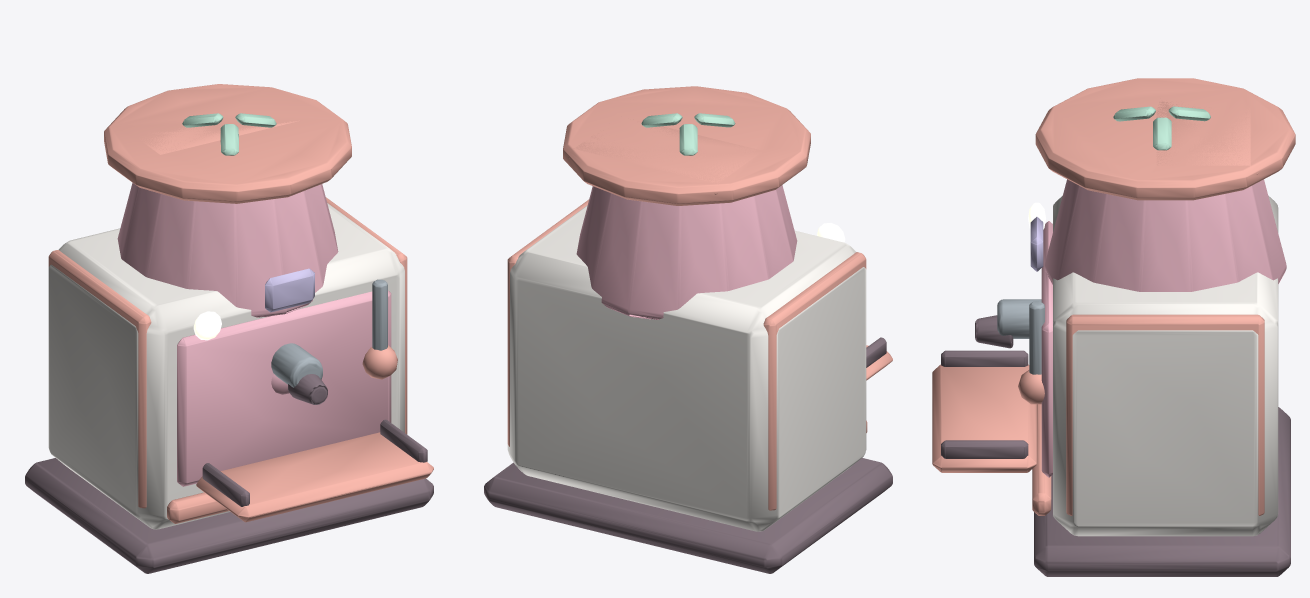
Rendered from machine_strawberry.glb.
3 views of the same model, side by side, from view 1: azimuth 30°, elevation 25°; view 2: azimuth 150°, elevation 25°; view 3: azimuth 270°, elevation 25° (orthographic). The views are drawn at different scales.
Parts seen in each view (by area): view 1: Machine_Strawberry_Body, Machine_Strawberry_FlavorPanel, Machine_Strawberry_HopperRim, Machine_Strawberry_Hopper, Machine_Strawberry_Base, Machine_Strawberry_RemovableOutputTray, Machine_Strawberry_L2_Rail_Left, Machine_Strawberry_L3_Badge, Machine_Strawberry_Hatch, Machine_Strawberry_NozzleNeck, Machine_Strawberry, Machine_Strawberry_LowerTrim (+7 smaller); view 2: Machine_Strawberry_Body, Machine_Strawberry_HopperRim, Machine_Strawberry_Hopper, Machine_Strawberry_Base, Machine_Strawberry_L2_Rail_Left, Machine_Strawberry_Hatch, Machine_Strawberry, Machine_Strawberry_L2_Rail_Right; view 3: Machine_Strawberry_Body, Machine_Strawberry_HopperRim, Machine_Strawberry_Hopper, Machine_Strawberry_Base, Machine_Strawberry_RemovableOutputTray, Machine_Strawberry_L2_Rail_Right, Machine_Strawberry_Hatch, Machine_Strawberry_FlavorPanel, Machine_Strawberry_TrayRail_R, Machine_Strawberry, Machine_Strawberry_TrayRail_L, Machine_Strawberry_NozzleNeck (+5 smaller).
Part boxes in pixels (bbox=[...]): Machine_Strawberry_Body: bbox=[48, 203, 404, 529]; Machine_Strawberry_FlavorPanel: bbox=[177, 290, 391, 486]; Machine_Strawberry_HopperRim: bbox=[104, 84, 351, 203]; Machine_Strawberry_Hopper: bbox=[117, 182, 338, 317]; Machine_Strawberry_Base: bbox=[25, 458, 433, 573]; Machine_Strawberry_RemovableOutputTray: bbox=[196, 432, 433, 522]; Machine_Strawberry_L2_Rail_Left: bbox=[48, 250, 151, 508]; Machine_Strawberry_L3_Badge: bbox=[265, 268, 314, 312]; Machine_Strawberry_Hatch: bbox=[114, 120, 299, 154]; Machine_Strawberry_NozzleNeck: bbox=[271, 343, 322, 387]; Machine_Strawberry: bbox=[182, 113, 276, 155]; Machine_Strawberry_LowerTrim: bbox=[167, 492, 228, 523]; Machine_Strawberry_Body: bbox=[507, 205, 866, 531]; Machine_Strawberry_HopperRim: bbox=[563, 86, 810, 205]; Machine_Strawberry_Hopper: bbox=[576, 185, 797, 319]; Machine_Strawberry_Base: bbox=[484, 458, 892, 573]; Machine_Strawberry_L2_Rail_Left: bbox=[763, 252, 866, 510]; Machine_Strawberry_Hatch: bbox=[568, 119, 762, 194]; Machine_Strawberry: bbox=[641, 113, 735, 155]; Machine_Strawberry_L2_Rail_Right: bbox=[507, 199, 588, 446]; Machine_Strawberry_Body: bbox=[1053, 195, 1278, 536]; Machine_Strawberry_HopperRim: bbox=[1035, 78, 1295, 200]; Machine_Strawberry_Hopper: bbox=[1044, 179, 1286, 291]; Machine_Strawberry_Base: bbox=[1034, 407, 1290, 576]; Machine_Strawberry_RemovableOutputTray: bbox=[932, 364, 1036, 472]; Machine_Strawberry_L2_Rail_Right: bbox=[1066, 314, 1264, 515]; Machine_Strawberry_Hatch: bbox=[1156, 92, 1258, 174]; Machine_Strawberry_FlavorPanel: bbox=[1041, 221, 1052, 477]; Machine_Strawberry_TrayRail_R: bbox=[941, 440, 1028, 458]; Machine_Strawberry: bbox=[1113, 106, 1210, 150]; Machine_Strawberry_TrayRail_L: bbox=[941, 350, 1028, 366]; Machine_Strawberry_NozzleNeck: bbox=[997, 299, 1041, 338].
Size of the model in its own units: 2.28 by 2.9 by 2.29.
